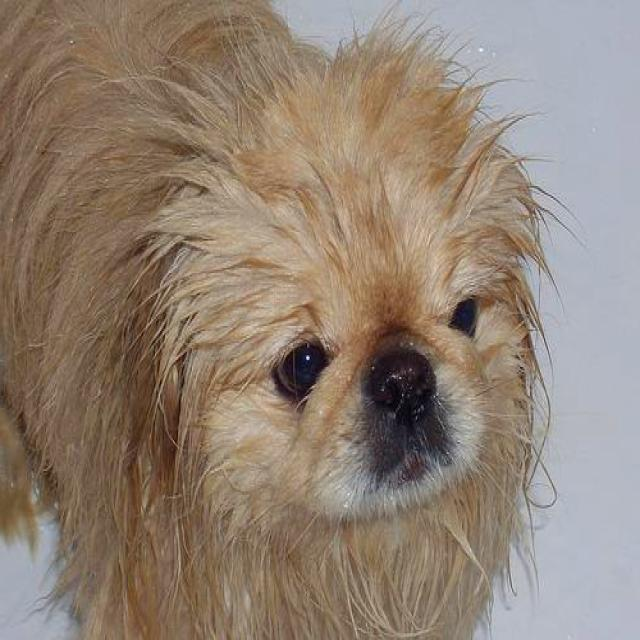pekinese: (2, 0, 587, 638)
